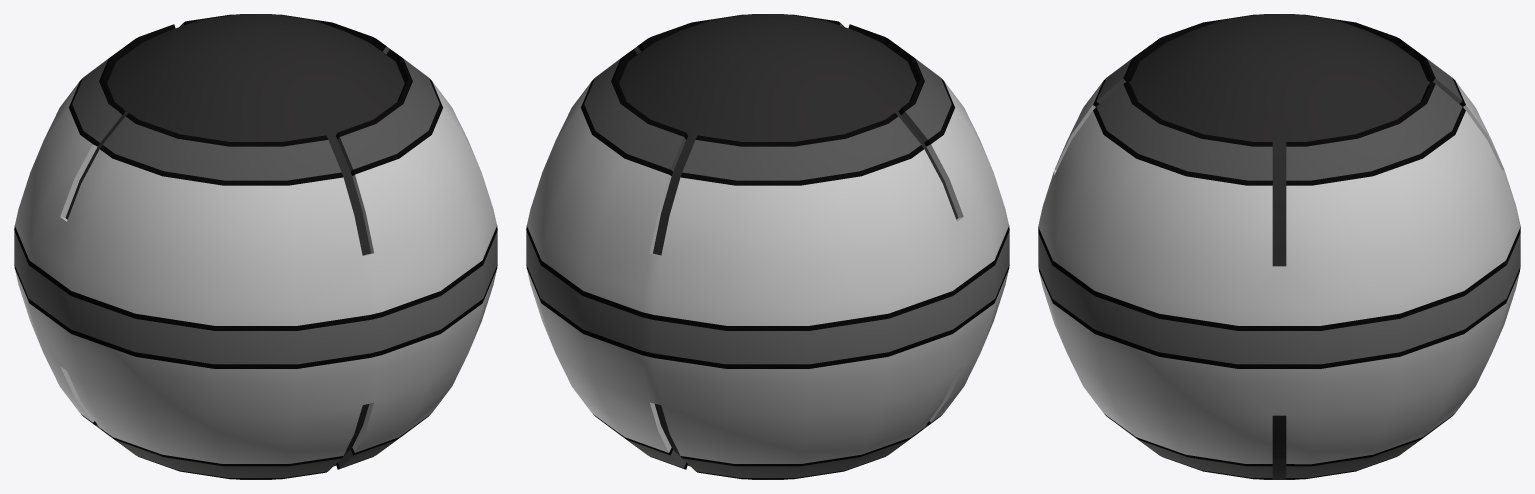
Rendered from MOb_Capsule_Slice.fbx.
3 views of the same model, side by side, from view 1: azimuth 30°, elevation 25°; view 2: azimuth 150°, elevation 25°; view 3: azimuth 270°, elevation 25° (orthographic).
Visible parts, largest first — view 1: MOb_Capsule_half_b, MOb_Capsule_half_a; view 2: MOb_Capsule_half_b, MOb_Capsule_half_a; view 3: MOb_Capsule_half_b, MOb_Capsule_half_a.
Part boxes in pixels (bbox=[...]): MOb_Capsule_half_b: bbox=[14, 14, 497, 347]; MOb_Capsule_half_a: bbox=[14, 248, 497, 479]; MOb_Capsule_half_b: bbox=[526, 14, 1009, 347]; MOb_Capsule_half_a: bbox=[526, 248, 1009, 479]; MOb_Capsule_half_b: bbox=[1038, 14, 1520, 347]; MOb_Capsule_half_a: bbox=[1038, 250, 1520, 479].
Size of the model in its own units: 0.3555 by 0.3494 by 0.3599.
